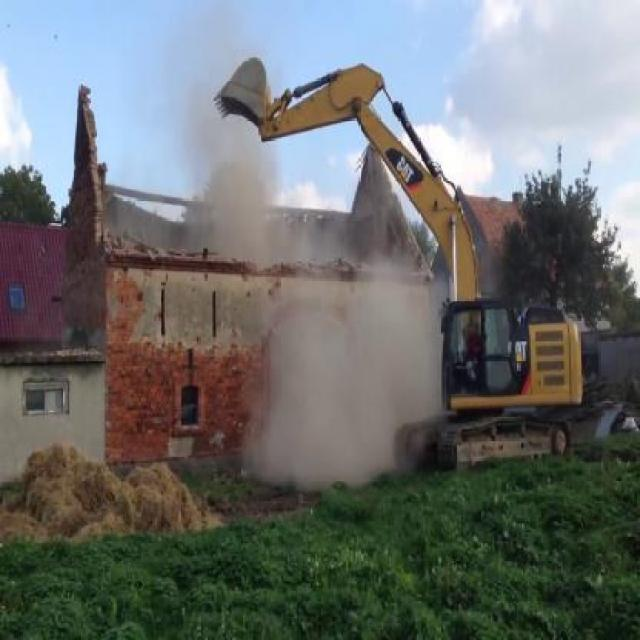Excavator: (214, 38, 583, 474)
